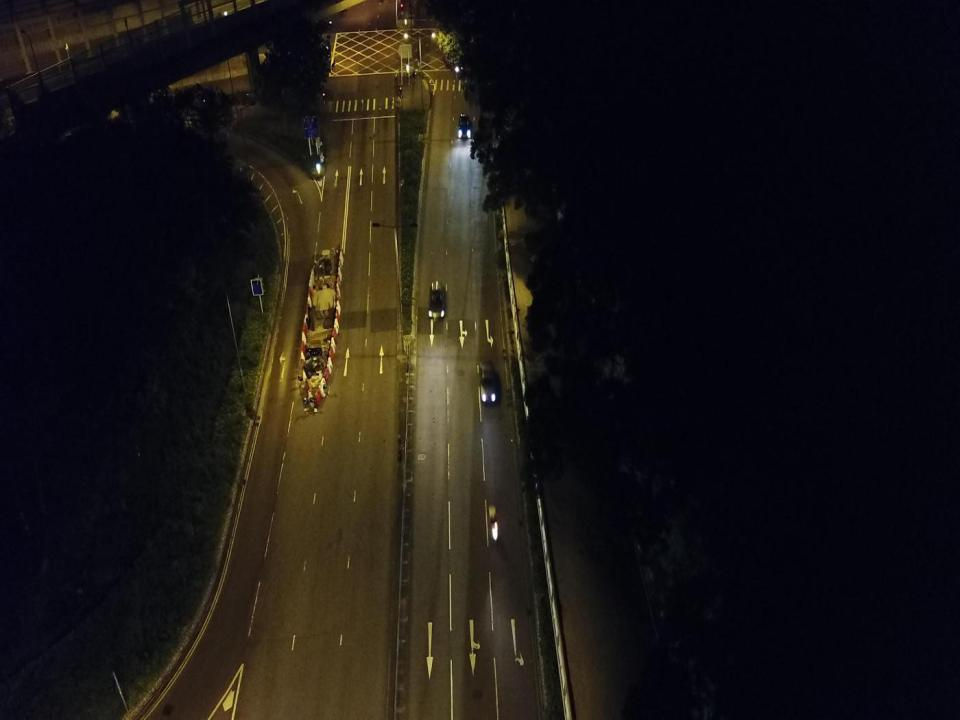car: (479, 358, 498, 406), (428, 280, 446, 320), (457, 110, 472, 140)
